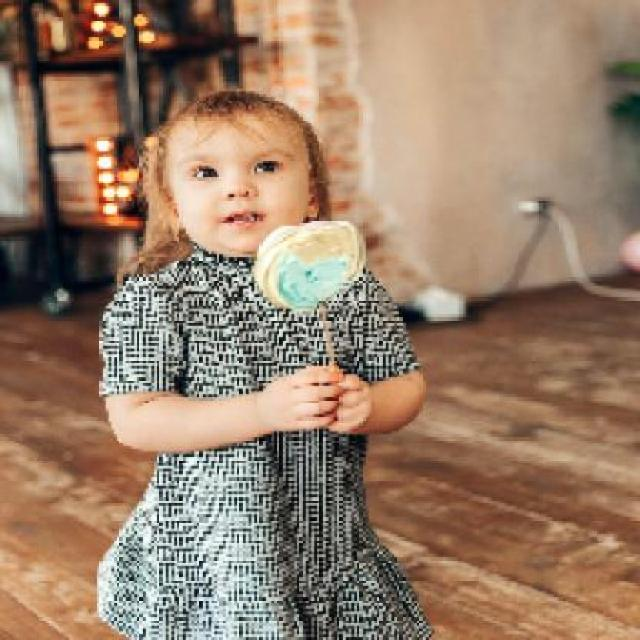child: (92, 85, 434, 638)
